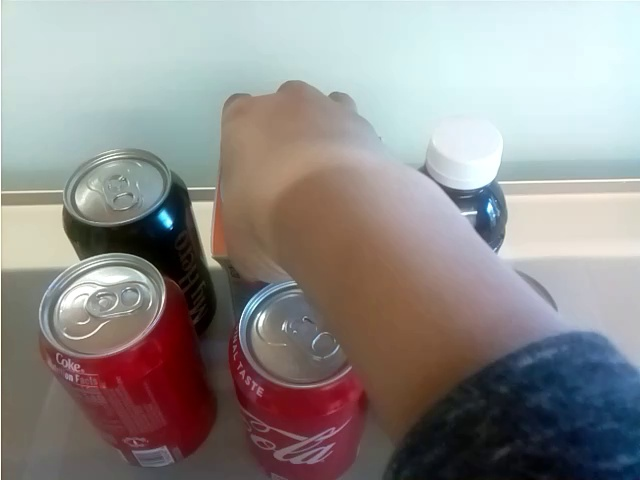cocacola: (26, 256, 228, 474), (235, 278, 379, 479)
cocacola-zero-shadow: (55, 149, 188, 252)
hand: (216, 82, 387, 269)
juice-shadow: (410, 103, 523, 247)
